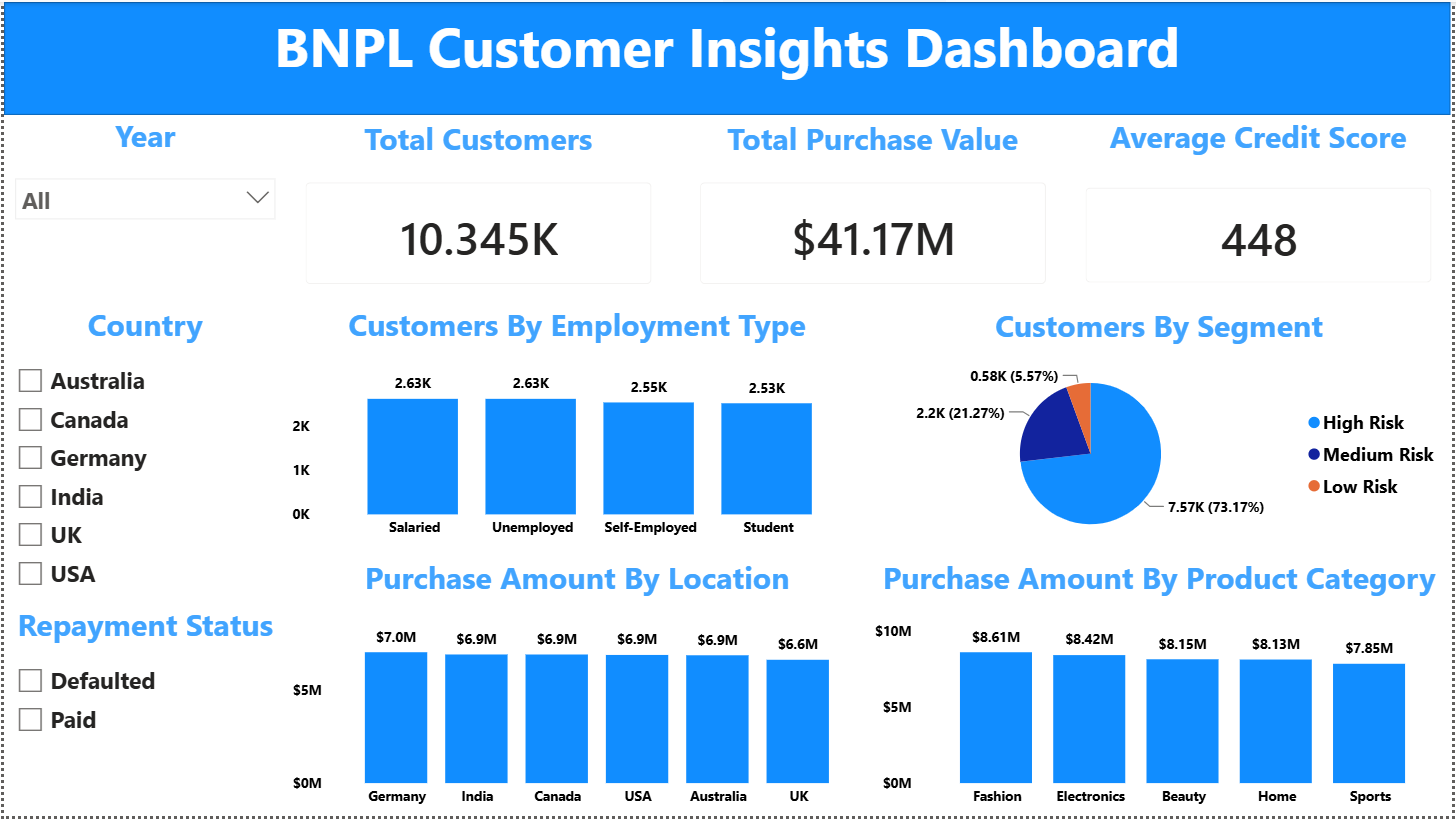

The page's visual inventory and layout, read from the dashboard file:
{"tool":"powerbi","page":{"name":"Customer Overview","canvas":[1280,720],"ordinal":0},"visuals":[{"type":"shape","box":[0,0,1279.5,99.9],"z":0},{"type":"textbox","box":[0,0,1279.5,99.9],"z":1000},{"type":"columnChart","title":"Purchase Amount By Product Category","fields":{"Category":["Buy_Now_Pay_Later_BNPL_CreditRisk_Dataset.product_category"],"Y":["Sum(Buy_Now_Pay_Later_BNPL_CreditRisk_Dataset.purchase_amount)"]},"box":[764.3,491.1,515,230],"z":2000},{"type":"pieChart","title":"Customers By Segment","fields":{"Category":["Buy_Now_Pay_Later_BNPL_CreditRisk_Dataset.customer_segment"],"Y":["CountNonNull(Buy_Now_Pay_Later_BNPL_CreditRisk_Dataset.user_id)"]},"box":[764.7,268,515,216.5],"z":3000},{"type":"columnChart","title":"Customers By Employment Type","fields":{"Category":["Buy_Now_Pay_Later_BNPL_CreditRisk_Dataset.employment_type"],"Y":["CountNonNull(Buy_Now_Pay_Later_BNPL_CreditRisk_Dataset.user_id)"]},"box":[249.8,266.5,515,216.5],"z":4000},{"type":"columnChart","title":"Purchase Amount By Location","fields":{"Category":["Buy_Now_Pay_Later_BNPL_CreditRisk_Dataset.location"],"Y":["Sum(Buy_Now_Pay_Later_BNPL_CreditRisk_Dataset.purchase_amount)"]},"box":[249.9,491.1,515,230],"z":5000},{"type":"cardVisual","title":"Total Purchase Value","fields":{"Data":["Sum(Buy_Now_Pay_Later_BNPL_CreditRisk_Dataset.purchase_amount)"]},"box":[597.7,102.3,340,165],"z":6000},{"type":"cardVisual","title":"Average Credit Score","fields":{"Data":["Avg(Buy_Now_Pay_Later_BNPL_CreditRisk_Dataset.credit_score)"]},"box":[938.8,101.5,340,165],"z":7000},{"type":"slicer","title":"Year","fields":{"Values":["Buy_Now_Pay_Later_BNPL_CreditRisk_Dataset.transaction_date.Variation.Date Hierarchy.Year","Buy_Now_Pay_Later_BNPL_CreditRisk_Dataset.transaction_date.Variation.Date Hierarchy.Quarter","Buy_Now_Pay_Later_BNPL_CreditRisk_Dataset.transaction_date.Variation.Date Hierarchy.Month"]},"box":[0,99.9,250,166.6],"z":8000},{"type":"slicer","title":"Country","fields":{"Values":["Buy_Now_Pay_Later_BNPL_CreditRisk_Dataset.location"]},"box":[0,266.5,249.8,265],"z":9000},{"type":"slicer","title":"Repayment Status","fields":{"Values":["Buy_Now_Pay_Later_BNPL_CreditRisk_Dataset.repayment_status"]},"box":[0,531.5,249.8,187.8],"z":10000},{"type":"cardVisual","title":"Total Customers","fields":{"Data":["Buy_Now_Pay_Later_BNPL_CreditRisk_Dataset.Total Customer"]},"box":[249.9,102.3,340,165],"z":11000}]}

Visuals, with their boxes in screenshot pixels (x1, y1, x2, y2), scaled from the page's 1280x720 canvas onto the 1456x821 screenshot:
shape: 0/0/1455/114
textbox: 0/0/1455/114
"Purchase Amount By Product Category" columnChart: 869/560/1455/820
"Customers By Segment" pieChart: 870/306/1455/552
"Customers By Employment Type" columnChart: 284/304/870/551
"Purchase Amount By Location" columnChart: 284/560/870/820
"Total Purchase Value" cardVisual: 680/117/1067/305
"Average Credit Score" cardVisual: 1068/116/1455/304
"Year" slicer: 0/114/284/304
"Country" slicer: 0/304/284/606
"Repayment Status" slicer: 0/606/284/820
"Total Customers" cardVisual: 284/117/671/305
